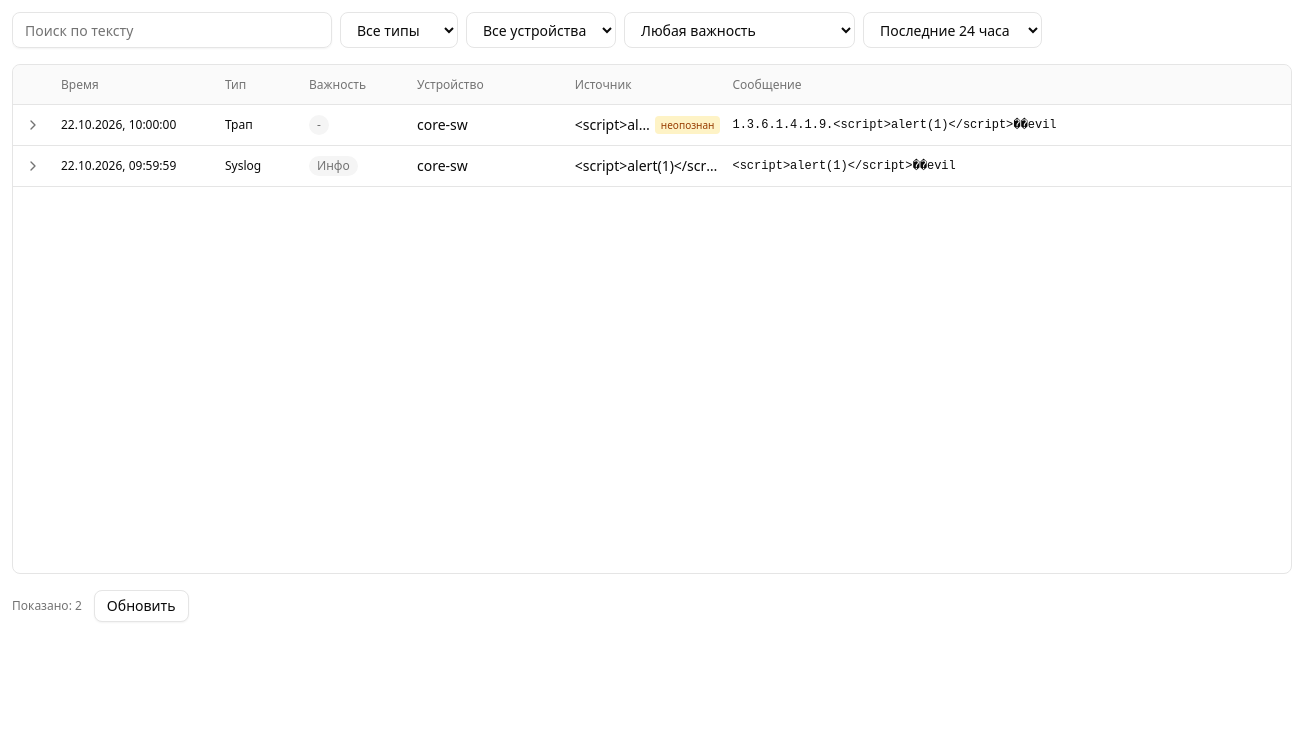
Test case: EventFeed › renders hostile event text as plain text and marks truncated varbinds
This screenshot has width=1292, height=732.
Expected: the text "неопознан" is shown, [655,116,720,134]
Step 1. Click the button named "Показать подробности" next to "22.10.2026, 10:00:00" → (37, 125), box [25,117,49,133]
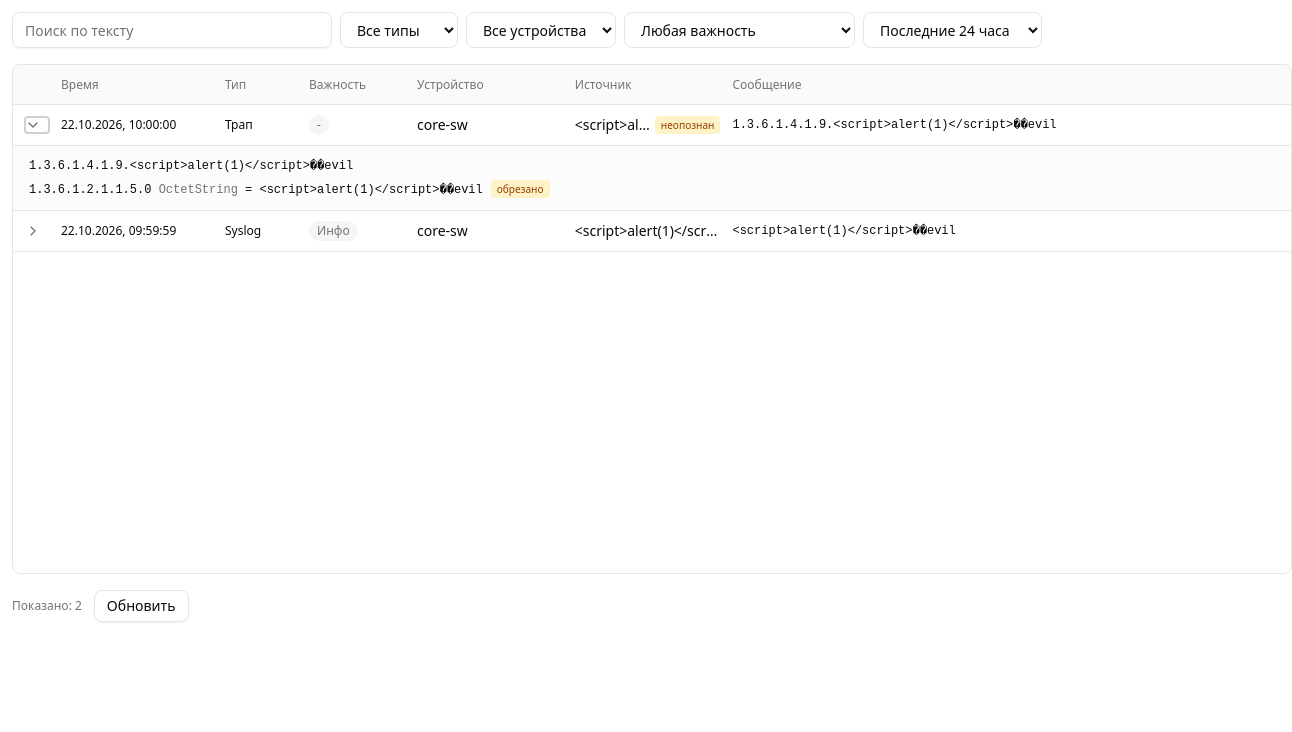
Expected: the text "обрезано" is shown, [491,180,550,198]
Expected: the text "1.3.6.1.2.1.1.5.0" is shown, [29,183,151,197]
